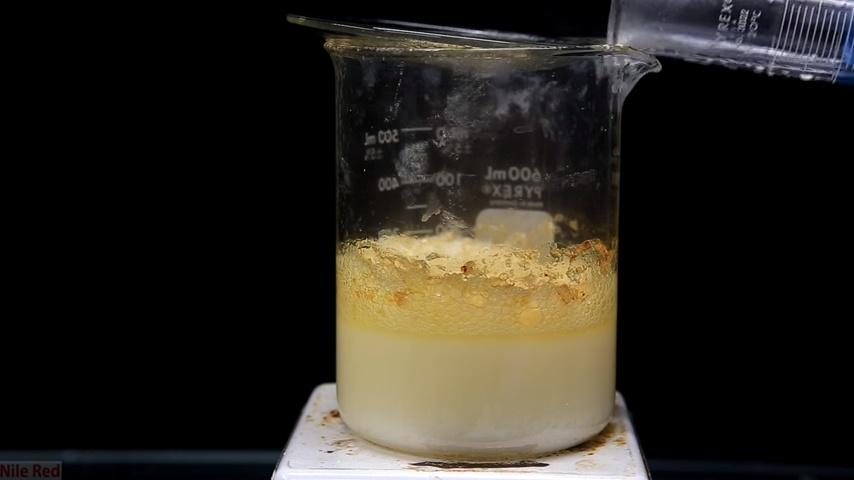Beaker: (314, 34, 662, 463)
